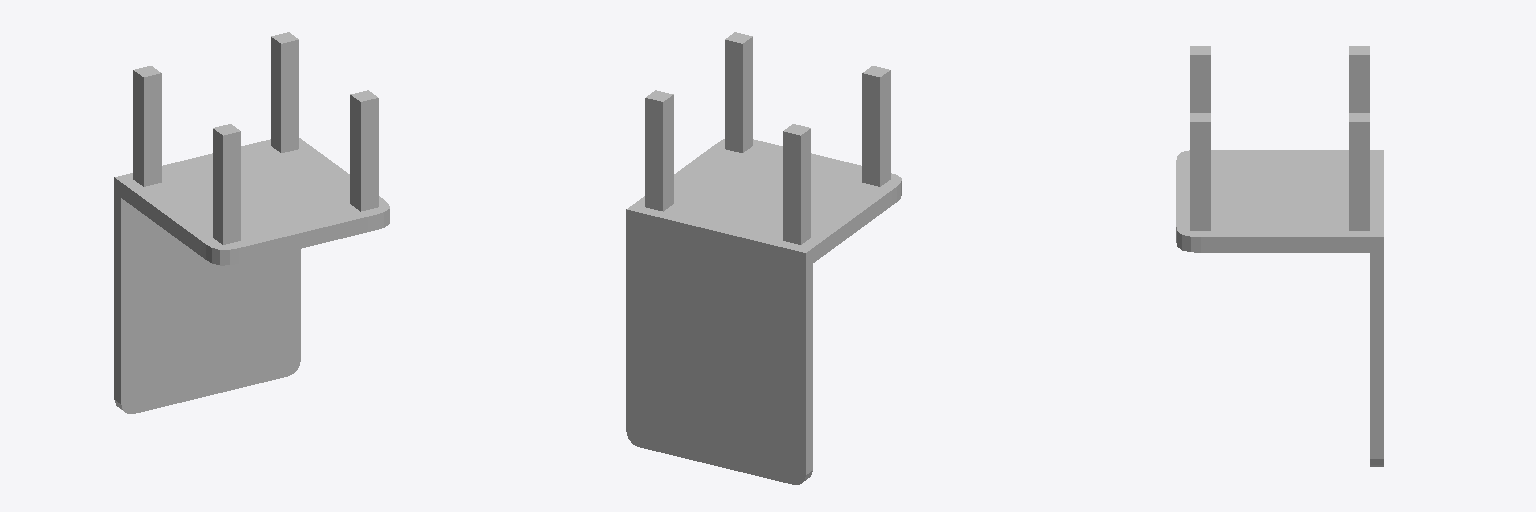
The model's file is chair11.obj.
3 views of the same model, side by side, from view 1: azimuth 30°, elevation 25°; view 2: azimuth 150°, elevation 25°; view 3: azimuth 270°, elevation 25° (orthographic).
Parts seen in each view (by area): view 1: Cube.001_Cube.002_Cube.001_Cube.003; view 2: Cube.001_Cube.002_Cube.001_Cube.003; view 3: Cube.001_Cube.002_Cube.001_Cube.003.
Boxes of the visible parts, <box> form: Cube.001_Cube.002_Cube.001_Cube.003: <box>114,32,389,413</box>; Cube.001_Cube.002_Cube.001_Cube.003: <box>626,32,901,484</box>; Cube.001_Cube.002_Cube.001_Cube.003: <box>1176,46,1383,466</box>.
Bounding box in the file's own units: 0.6 × 1.1 × 0.6.